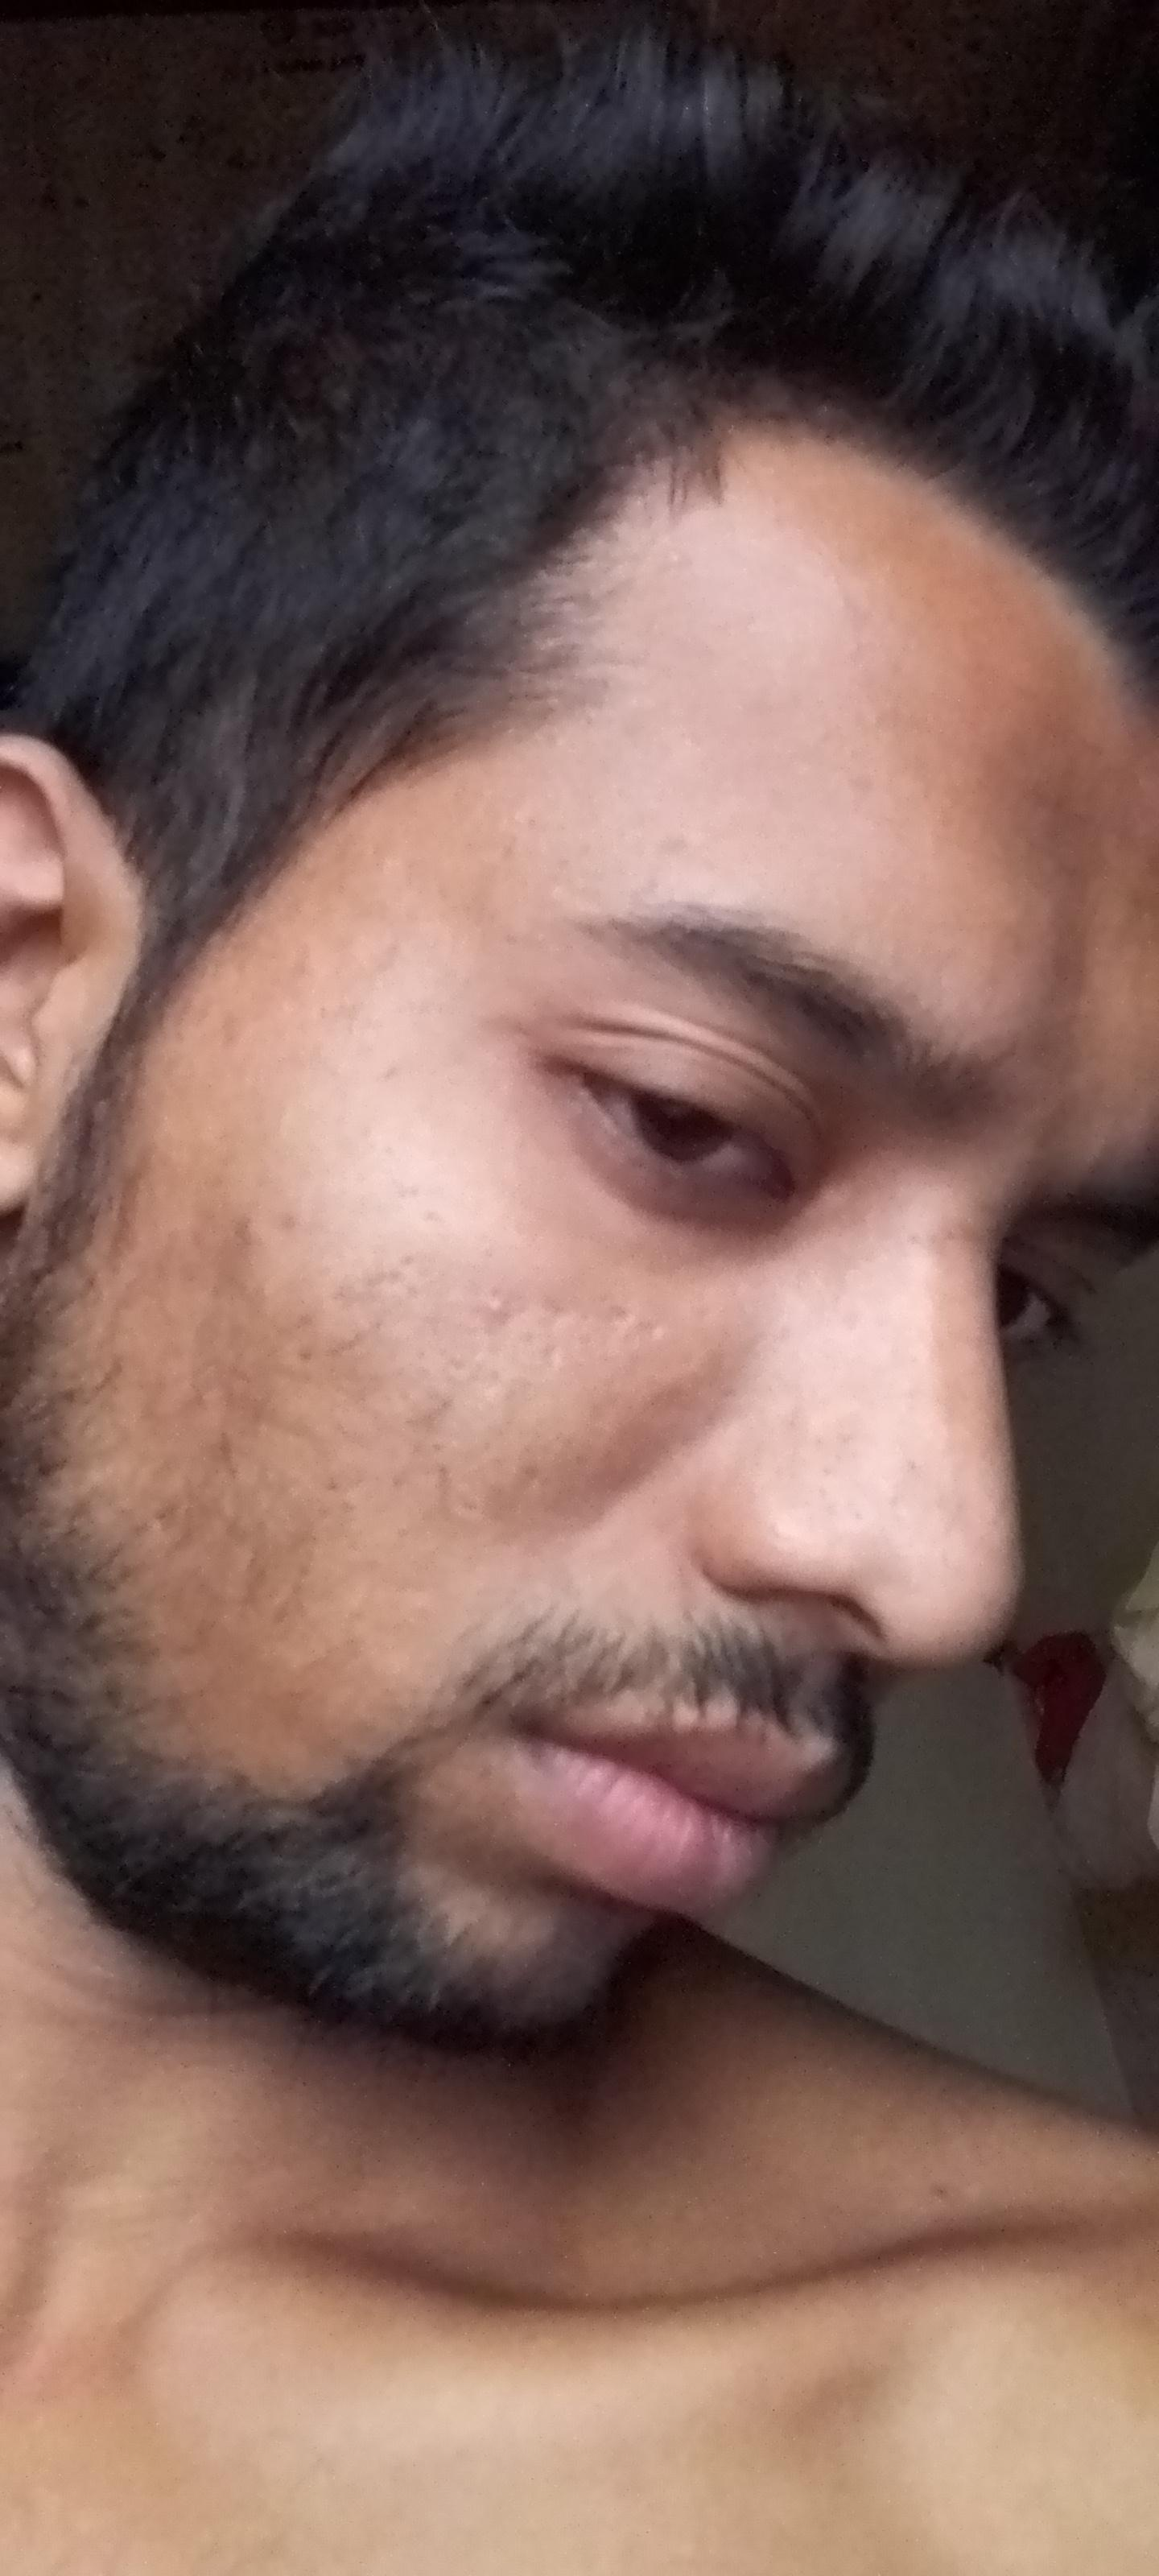Englarged-Pores: (438, 1268, 686, 1477), (790, 1411, 980, 1571), (358, 1148, 474, 1250)
